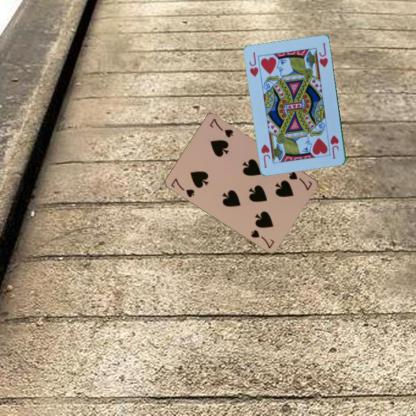7s: (286, 169, 314, 191), (169, 176, 196, 198)
Jh: (247, 50, 260, 78), (328, 133, 340, 160)
